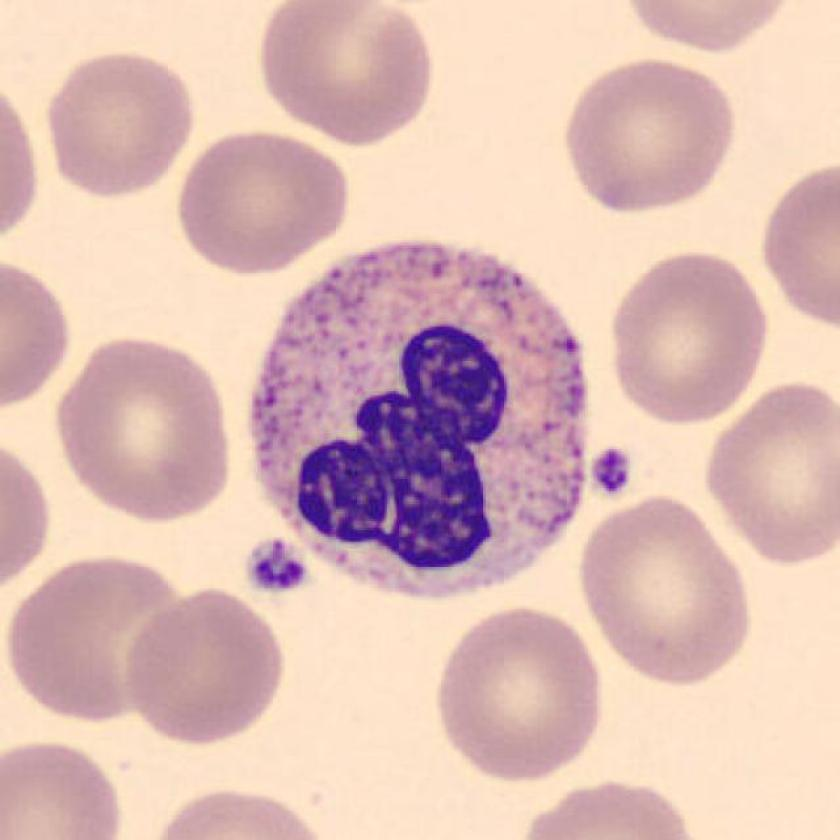neutrophil: (246, 237, 589, 597)
